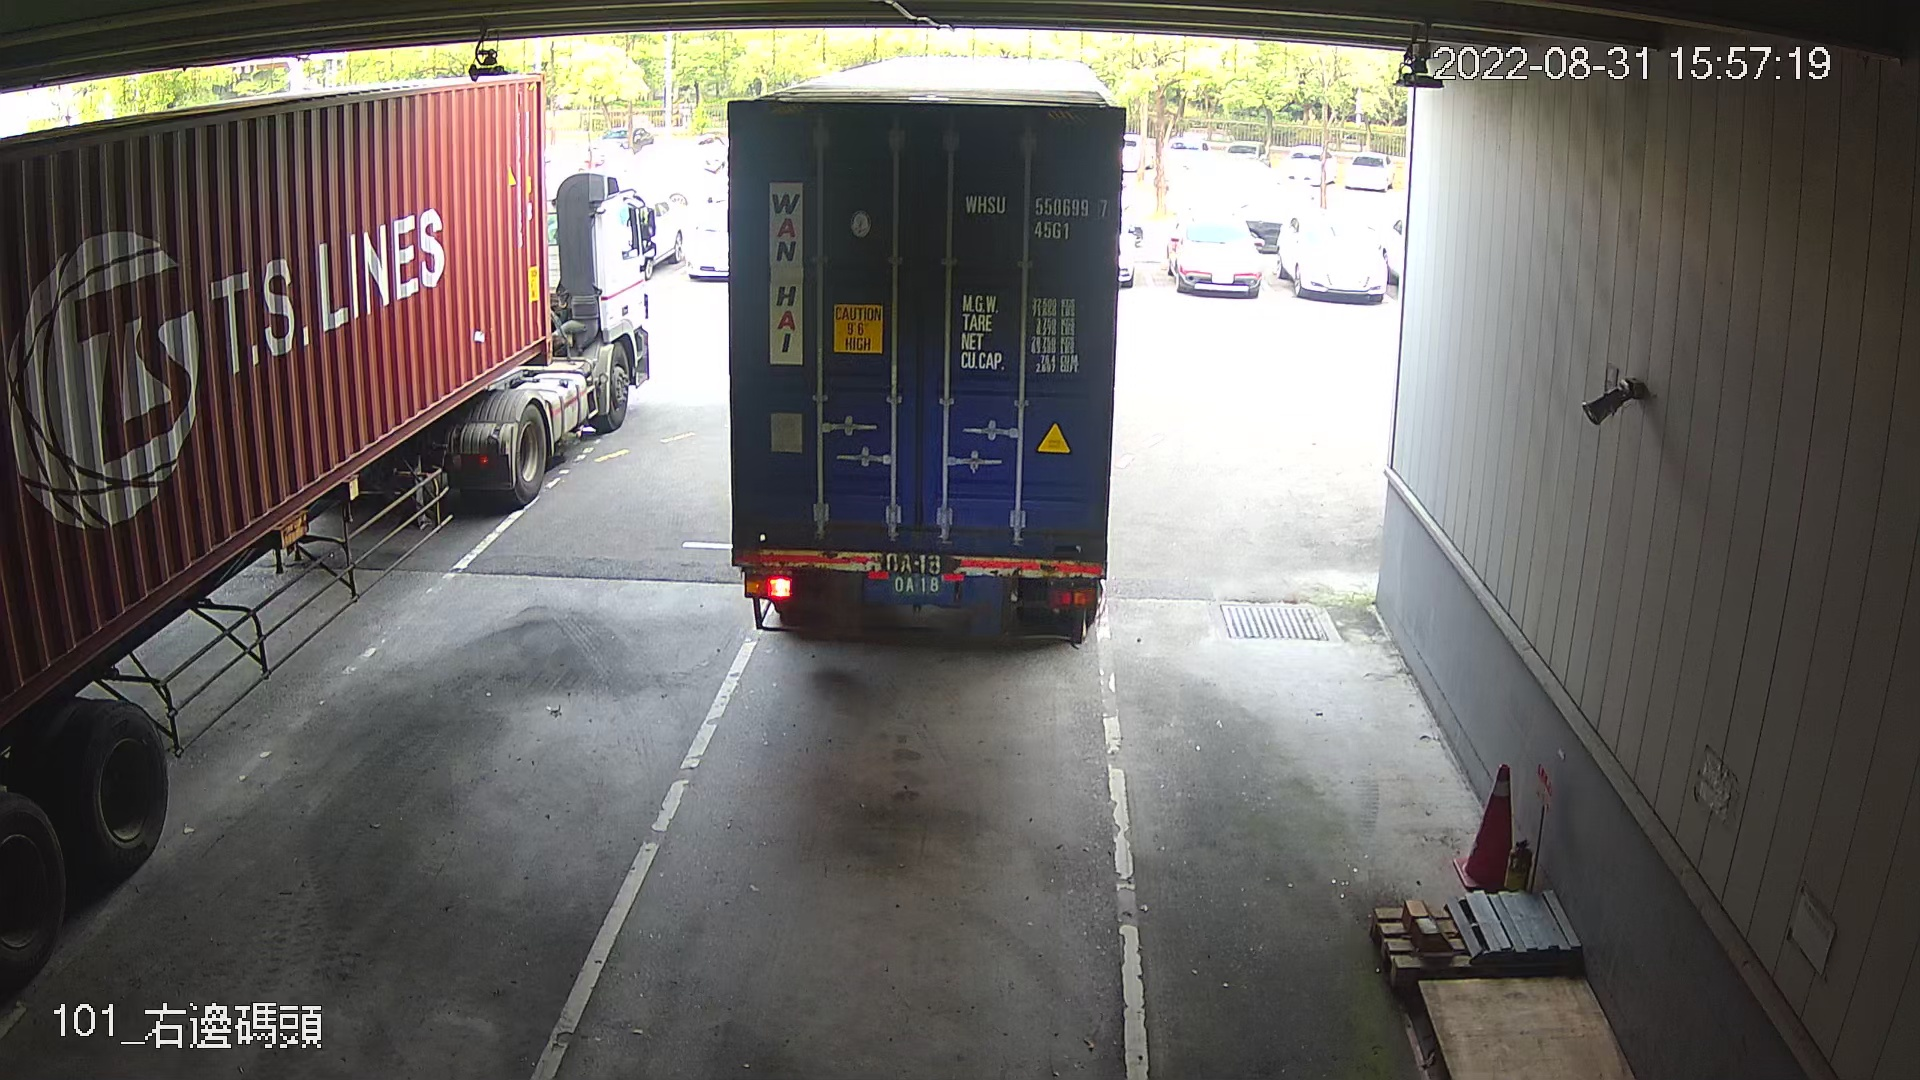container: (956, 183, 1113, 249)
